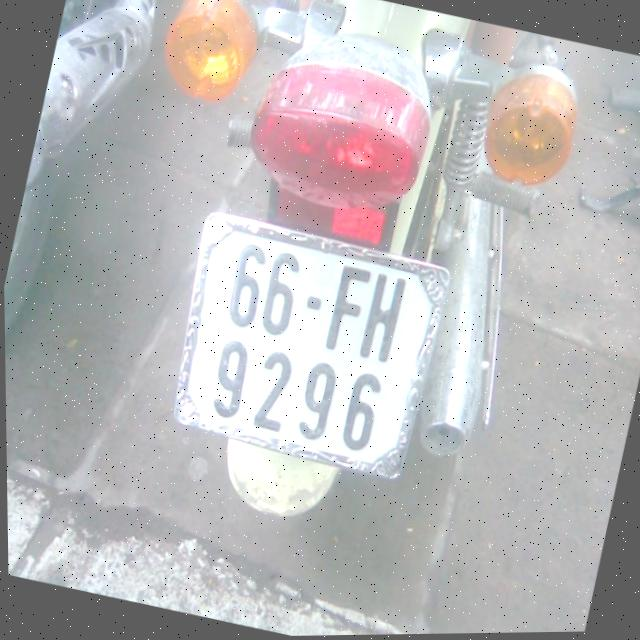motorcycle: (56, 0, 610, 592)
plate: (152, 198, 455, 490)
